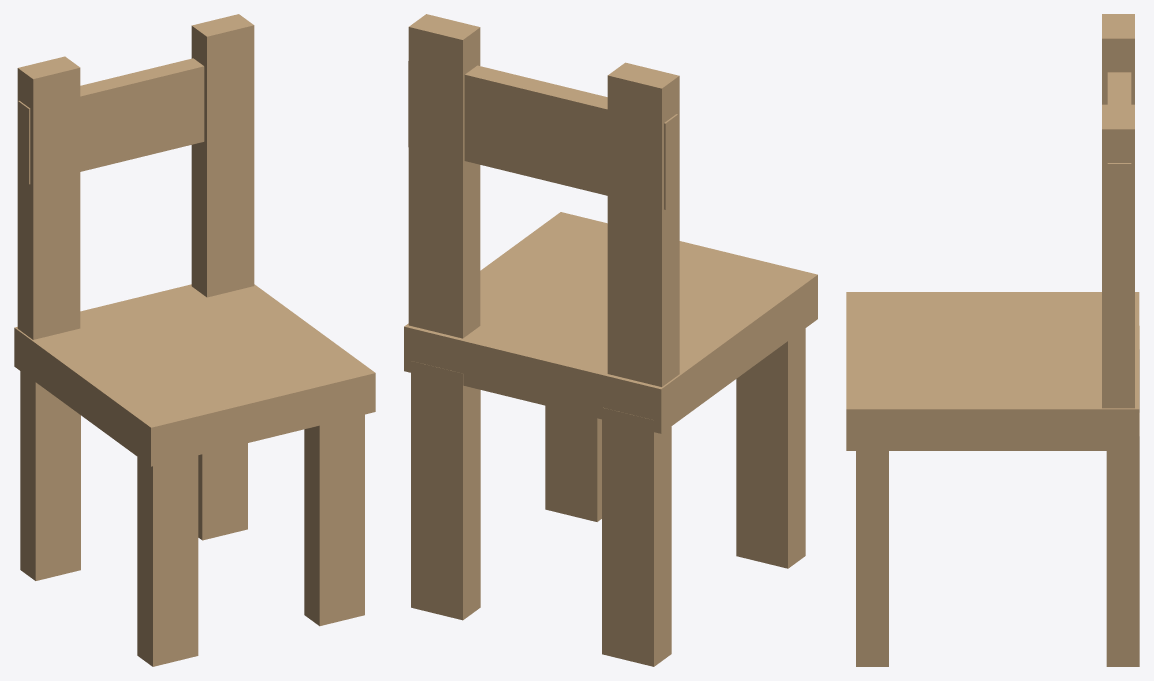
File: SM_chair_02.fbx
The picture shows the model from 3 angles, left to right: view 1: azimuth 30°, elevation 25°; view 2: azimuth 150°, elevation 25°; view 3: azimuth 270°, elevation 25°; orthographic projection. The views are drawn at different scales.
Parts seen in each view (by area): view 1: Box085; view 2: Box085; view 3: Box085.
Boxes of the visible parts, x1,y1,x2,y2 form: Box085: [14, 14, 375, 666]; Box085: [404, 14, 817, 666]; Box085: [846, 14, 1139, 666].
Size of the model in its own units: 24.63 by 52.9 by 26.03.
